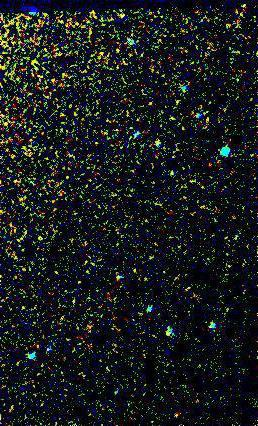star: (152, 317, 182, 347)
